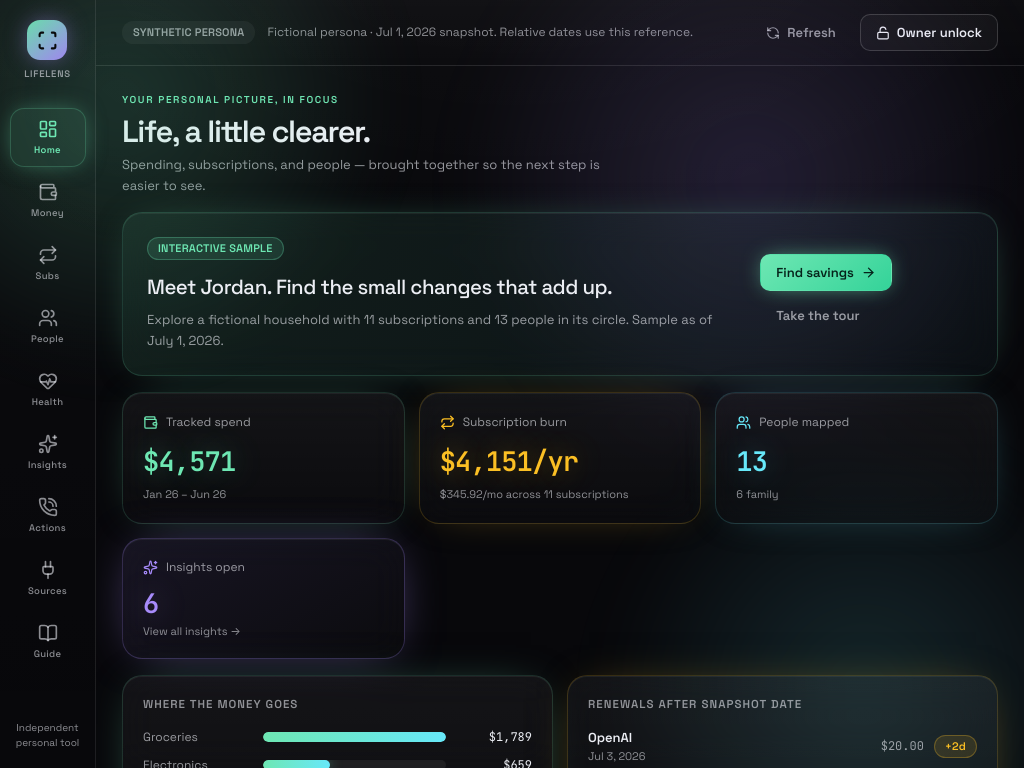
Test: Owner session boundaries › removes owner data when refreshed credentials are rejected
Step 1. Click the button with test id "owner-unlock" → [929, 32], box [860,14,998,51]
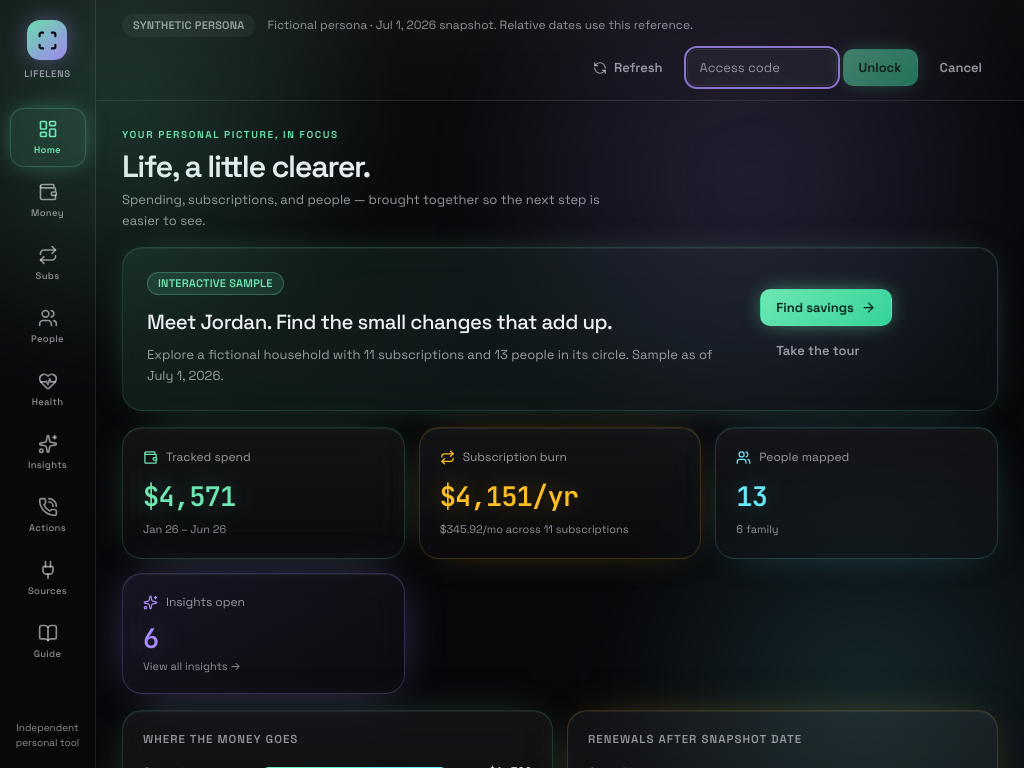
Step 2. Type "test-only-owner" into the password field labelled "Access code" → [762, 68], box [686,49,836,86]
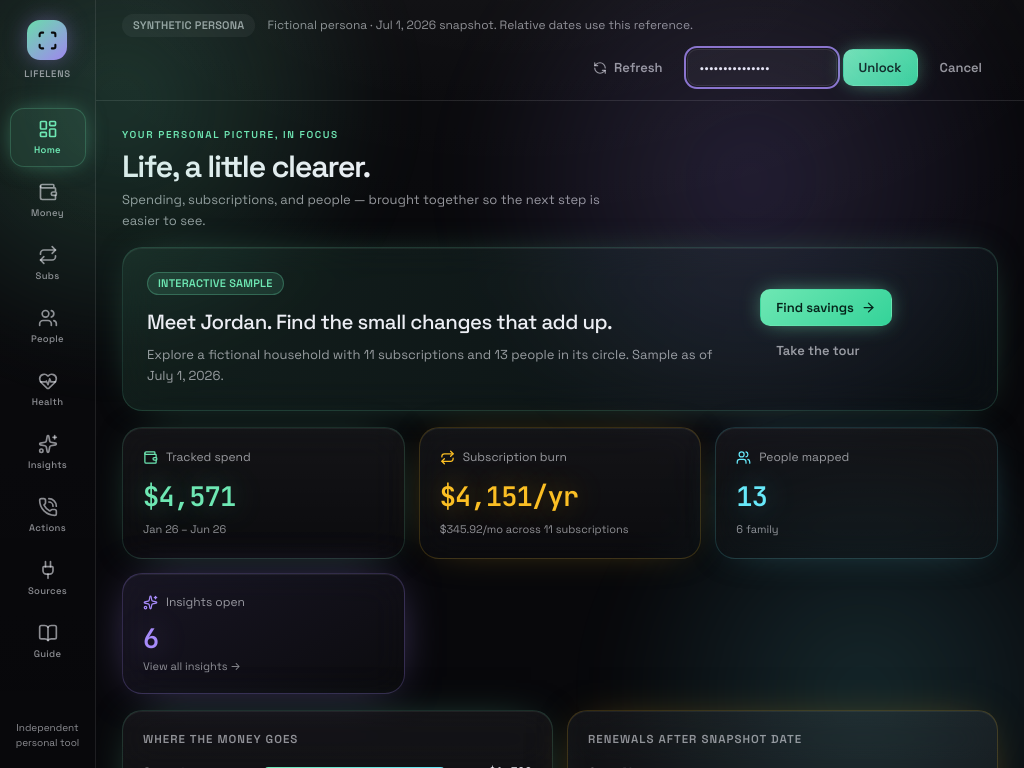
Step 3. Click the button "Unlock" → [880, 68], box [842,49,918,86]
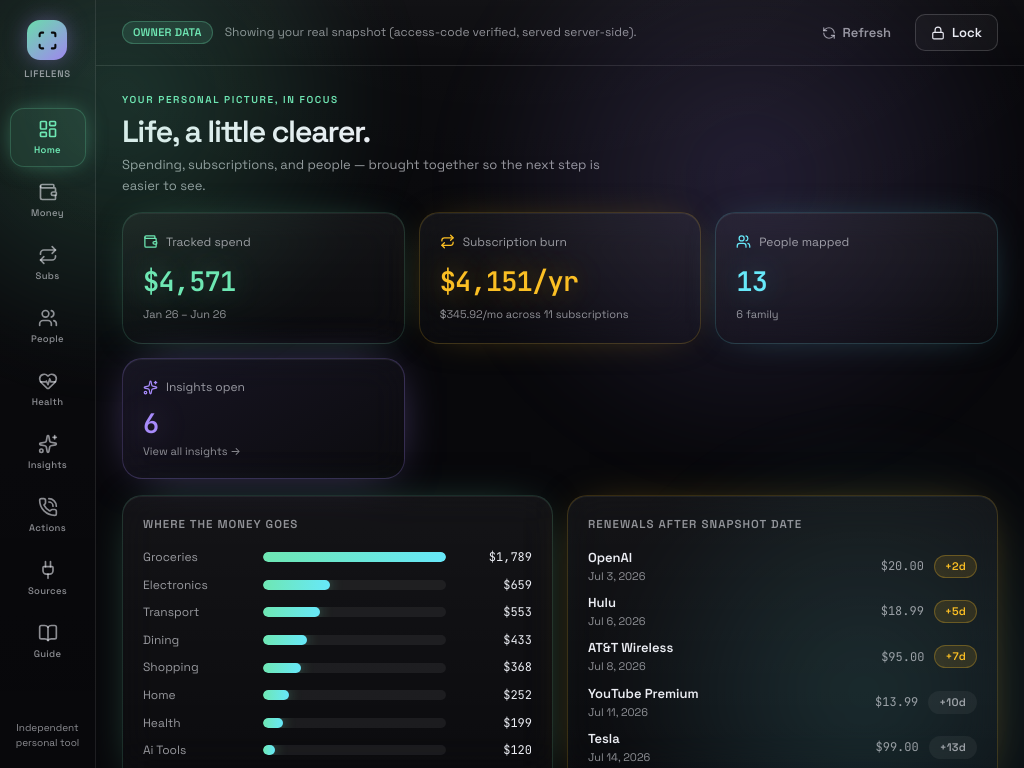
Result: the text "OWNER DATA" is shown at [122,21,213,44]
Step 4. Click the button with aria-label "Refresh data" → [856, 32], box [806,14,907,51]
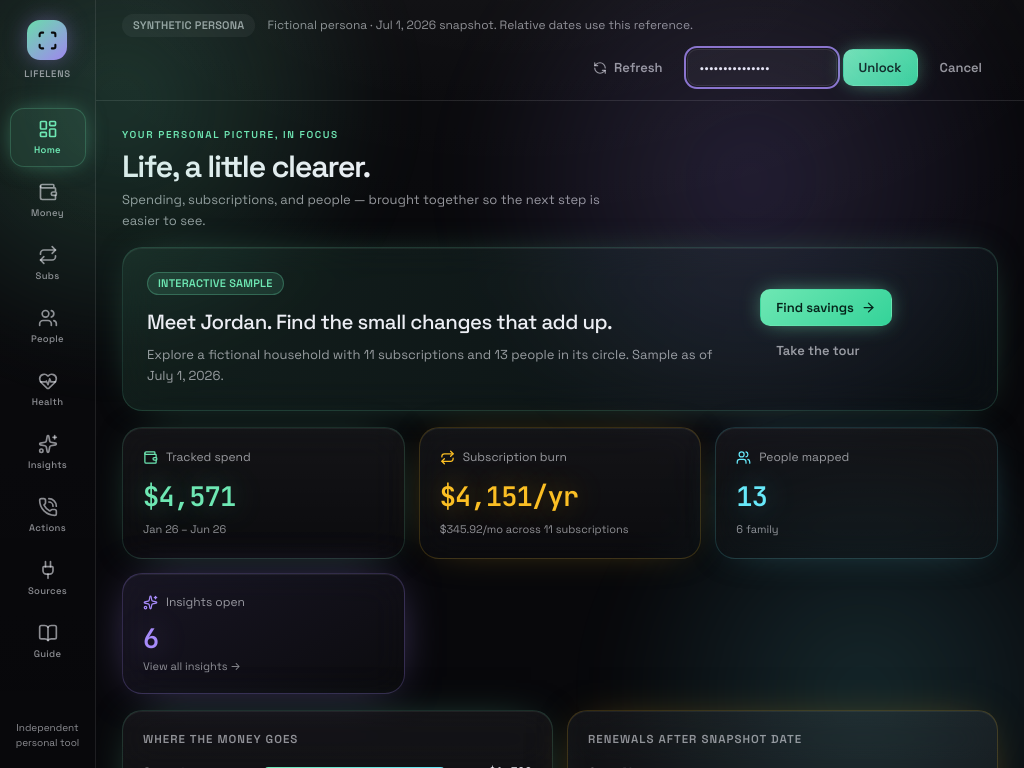
Result: the text "SYNTHETIC PERSONA" is shown at [122,14,256,37]
